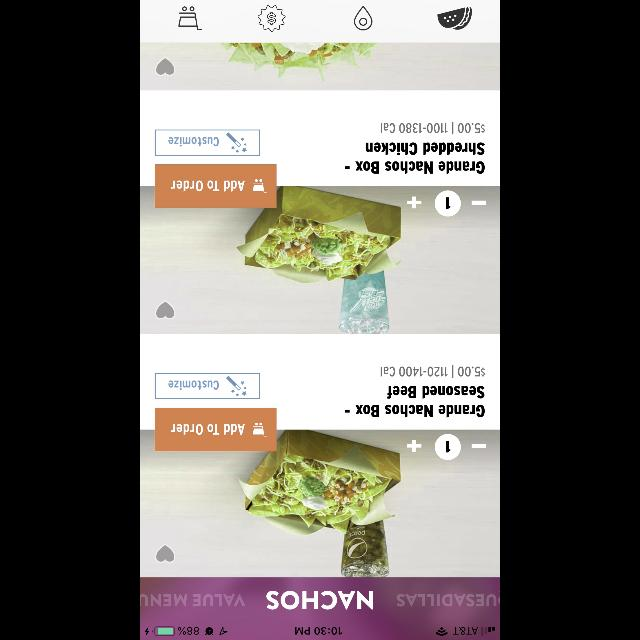icon: (257, 5, 285, 32), (178, 6, 202, 30), (353, 6, 372, 30), (155, 58, 175, 76), (155, 301, 175, 319), (155, 544, 175, 562)
image: (140, 186, 500, 334), (140, 429, 500, 577), (140, 44, 500, 90), (438, 6, 472, 30)
text: (345, 385, 485, 417), (345, 142, 485, 174), (266, 590, 372, 610), (140, 594, 246, 606), (381, 122, 485, 134), (380, 366, 484, 378), (396, 594, 499, 606)
textbutton: (155, 165, 277, 208), (155, 408, 277, 450), (154, 130, 260, 156), (154, 373, 260, 399)
uppertaskbar: (140, 626, 500, 640)
